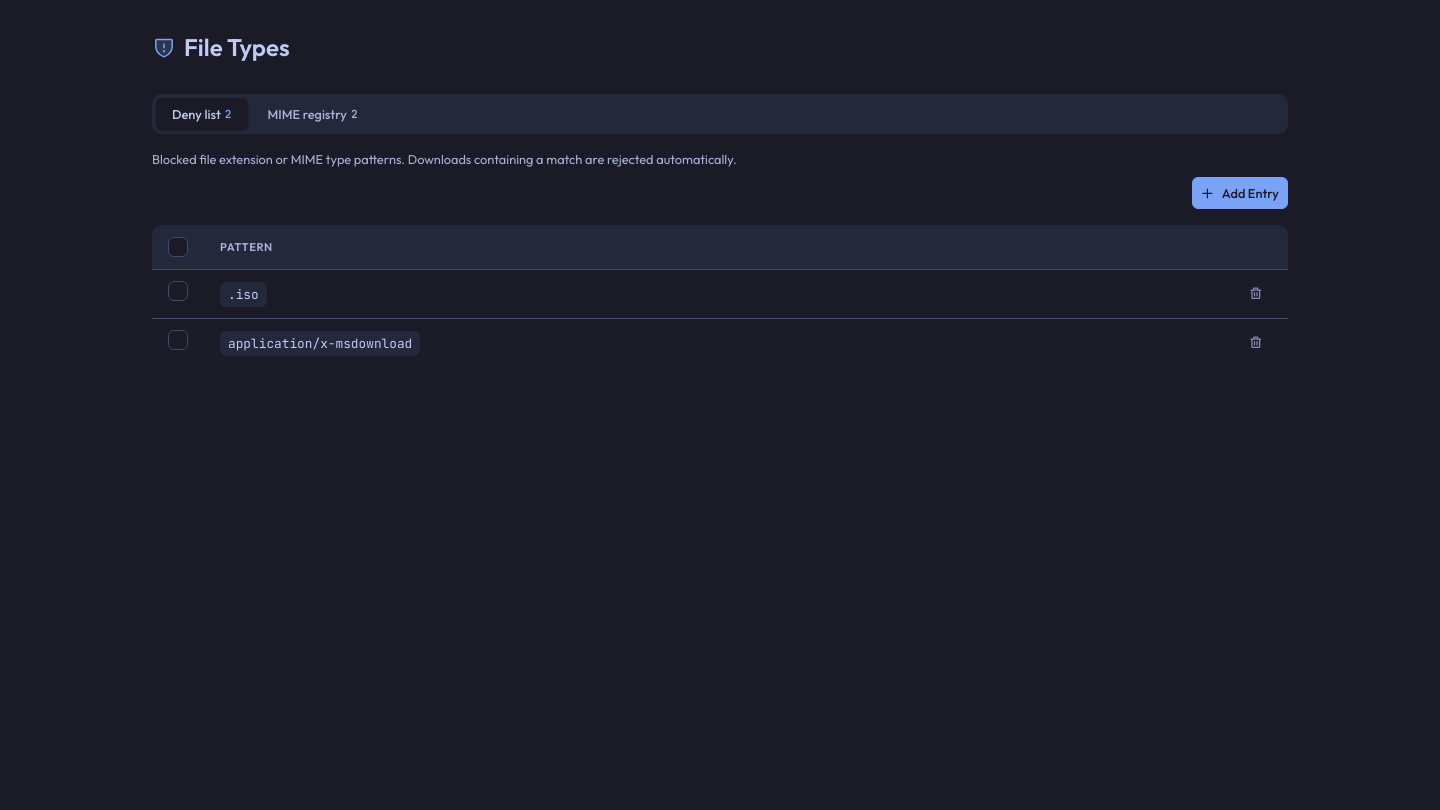
Scenario: FileTypesPage deny list › shows a modal error when the pattern is empty
Step 1. Click the button "Add Entry" → x=1240, y=193, box [1192,177,1288,209]
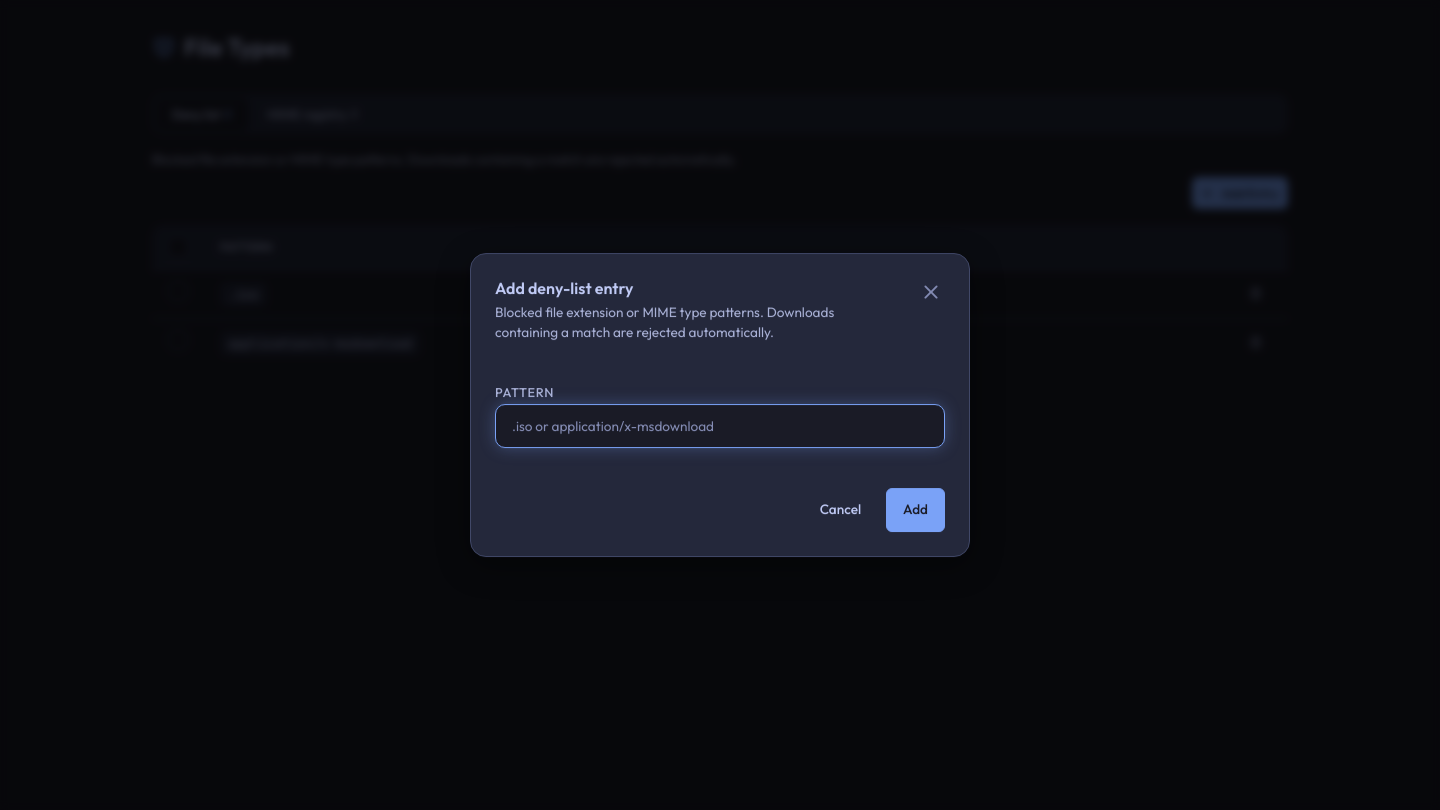
Step 2. Click the button "Add" → x=916, y=510, box [886,488,945,532]
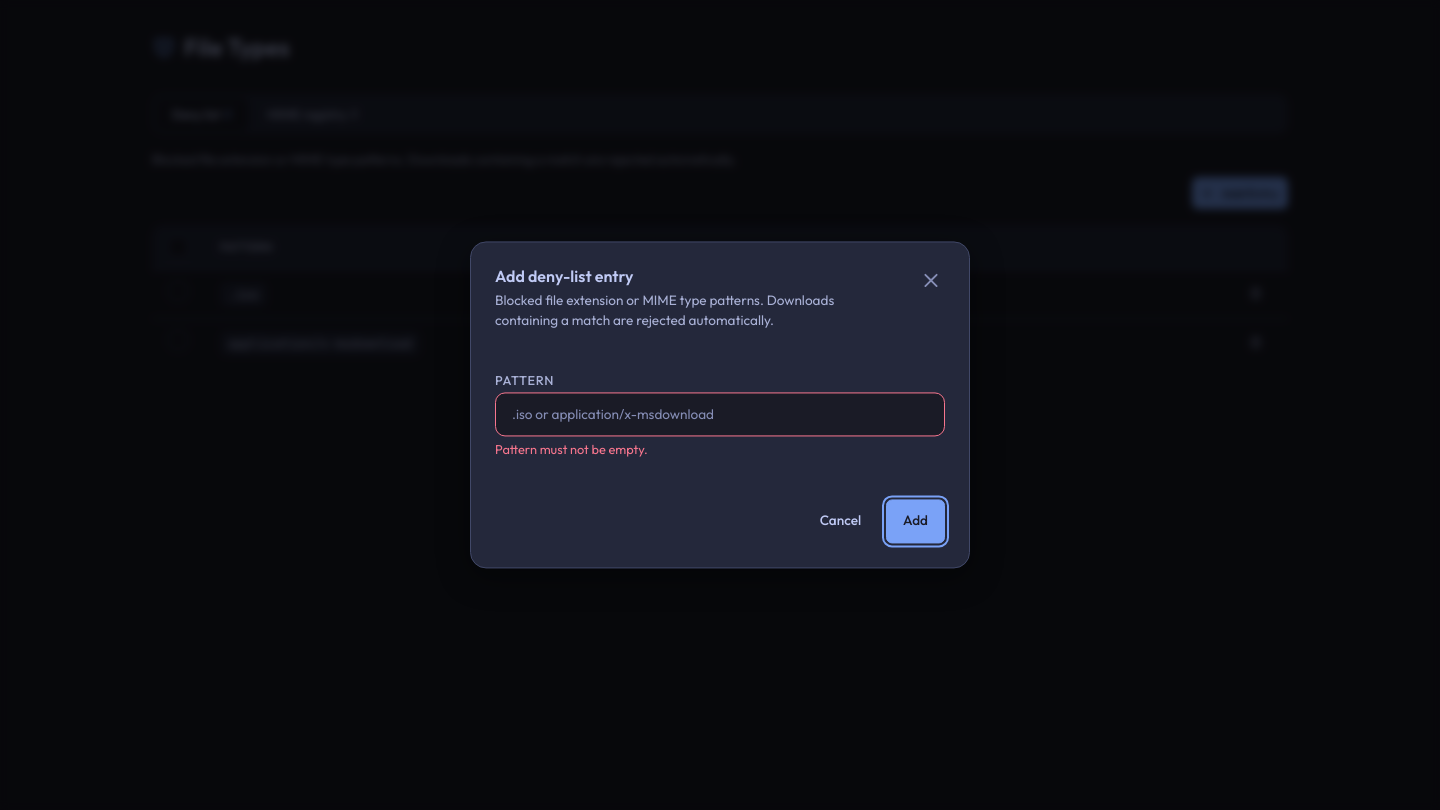
Expected: the message shows "Pattern must not be empty", [495,441,648,457]
